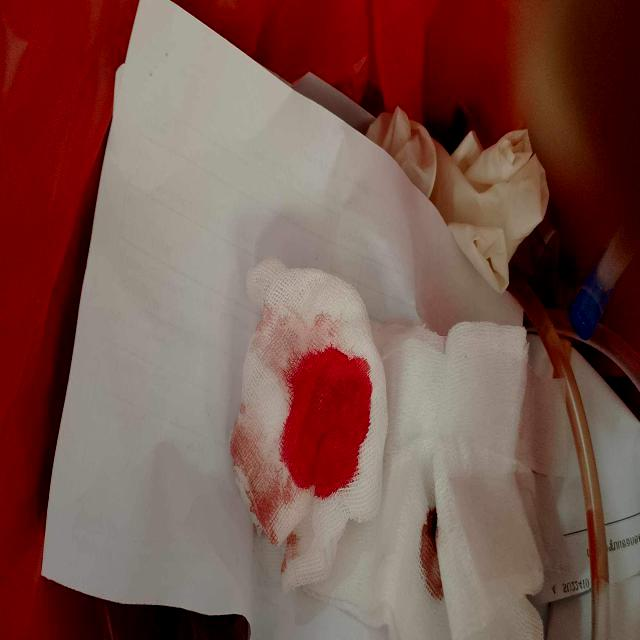General: (38, 2, 638, 637), (227, 256, 636, 636)
Infectious: (230, 256, 390, 592)
Sharps: (567, 222, 639, 341)
